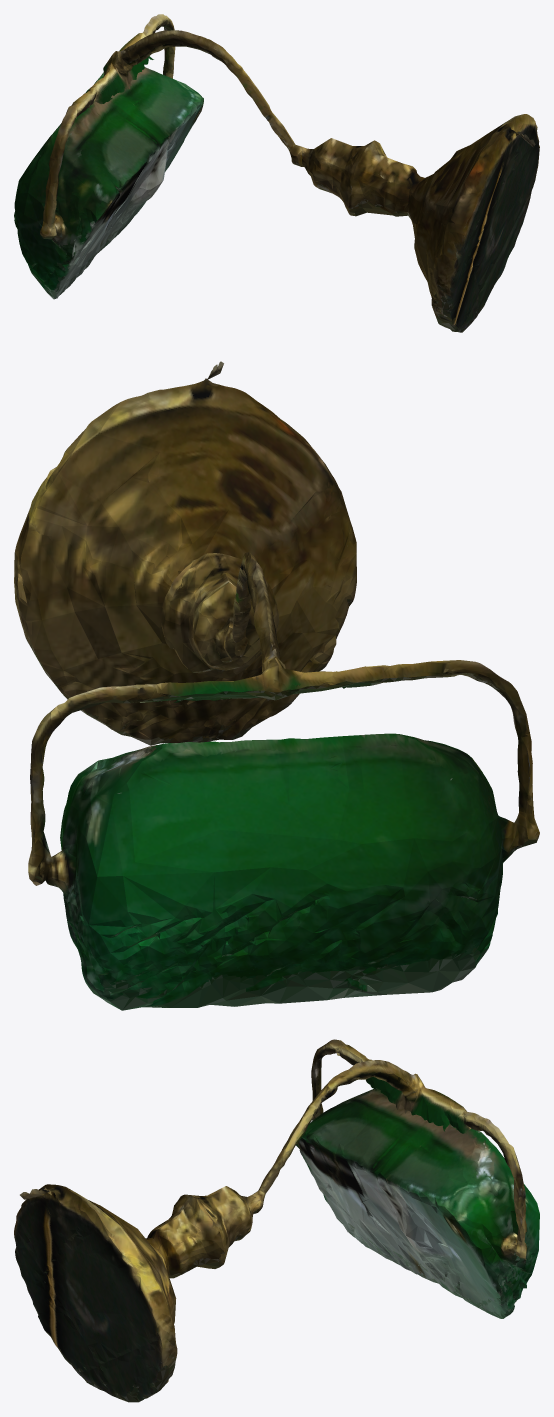
Rendered from Lamp.obj.
3 views of the same model, one above another, from view 1: azimuth 30°, elevation 25°; view 2: azimuth 150°, elevation 25°; view 3: azimuth 270°, elevation 25° (orthographic). The views are drawn at different scales.
Size of the model in its own units: 133 by 74.17 by 142.
1 material, 1 textured.
